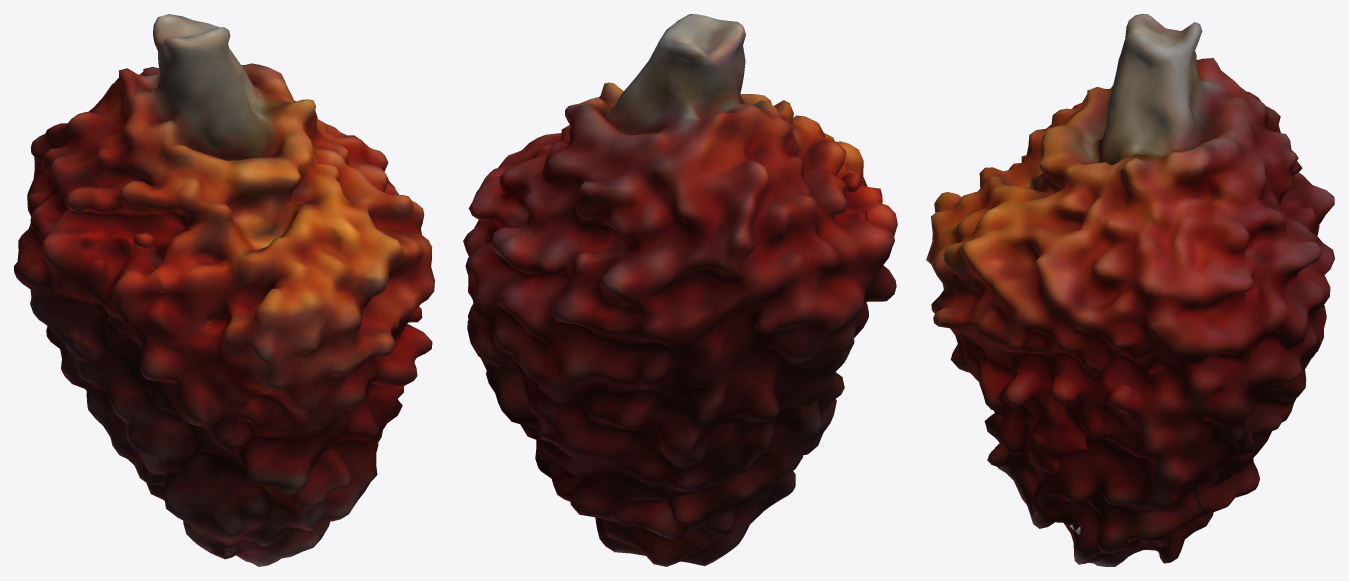
File: oilpalm.obj
3 renders of one model, left to right at view 1: azimuth 30°, elevation 25°; view 2: azimuth 150°, elevation 25°; view 3: azimuth 270°, elevation 25°, orthographic. The views are drawn at different scales.
Parts seen in each view (by area): view 1: mesh; view 2: mesh; view 3: mesh.
Part boxes in pixels (x1,y1,x2,y2): mesh: (14, 14, 434, 566); mesh: (463, 14, 897, 566); mesh: (926, 14, 1334, 566).
Bounding box in the file's own units: 0.0514 × 0.0715 × 0.051.
